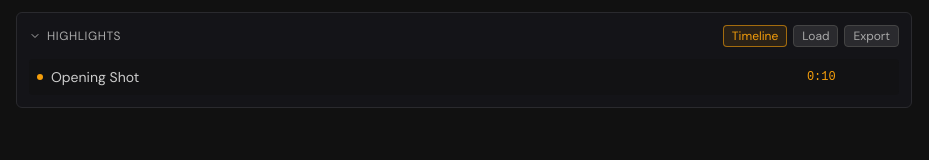
Test: HighlightList — inline rename › enters edit mode when the label is clicked
Click the button "Opening Shot": coordinates (95, 77) [51, 67, 799, 87]
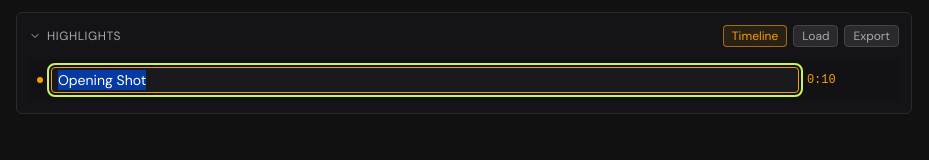
expect the field is shown: met, box [51, 67, 799, 93]
